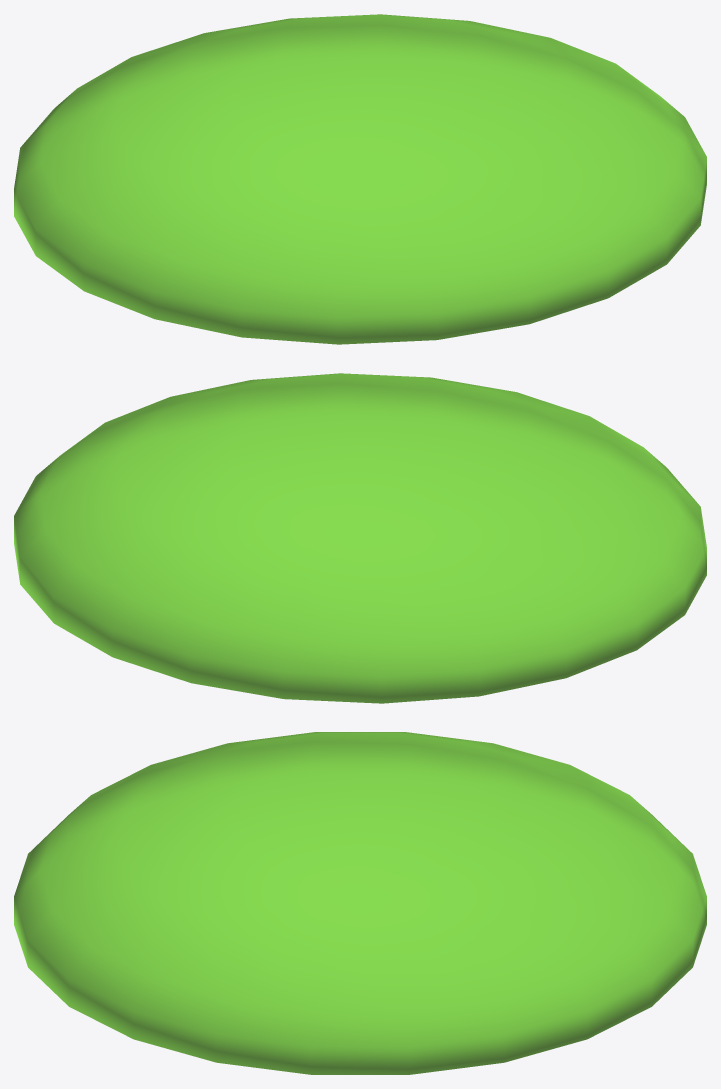
Rendered from HalfSlime.fbx.
3 views of the same model, one above another, from view 1: azimuth 30°, elevation 25°; view 2: azimuth 150°, elevation 25°; view 3: azimuth 270°, elevation 25° (orthographic). The views are drawn at different scales.
Parts seen in each view (by area): view 1: HalfSlime; view 2: HalfSlime; view 3: HalfSlime.
Boxes of the visible parts, <box> form: HalfSlime: <box>14,14,706,344</box>; HalfSlime: <box>14,373,706,703</box>; HalfSlime: <box>14,732,706,1074</box>.
Bounding box in the file's own units: 198 × 34.79 × 193.
